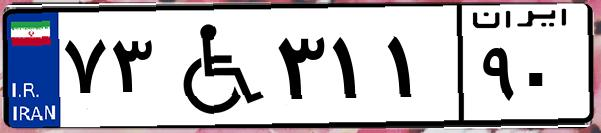0: (525, 38, 570, 115)
1: (385, 28, 445, 110), (330, 28, 385, 110)
3: (270, 28, 330, 110), (110, 28, 158, 98)
7: (57, 26, 110, 100)
9: (475, 38, 525, 113)
ژ (معلولین و جانبازان): (158, 12, 270, 120)
